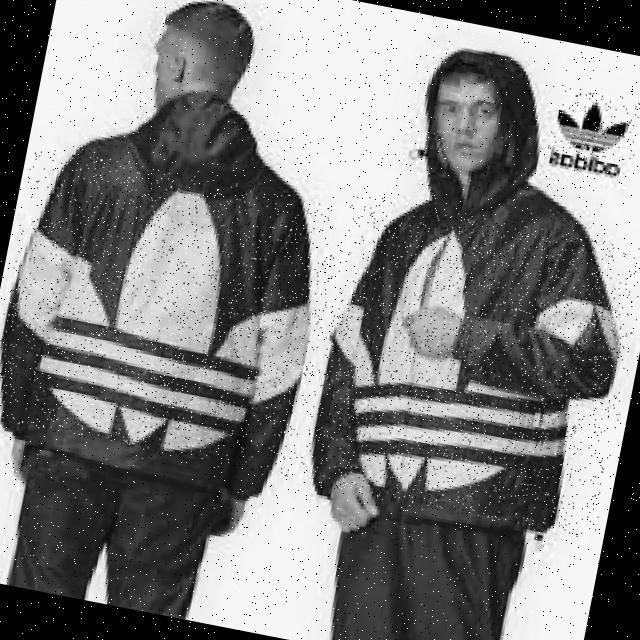Adidas: (296, 191, 640, 540), (0, 144, 346, 479), (545, 84, 640, 168)
